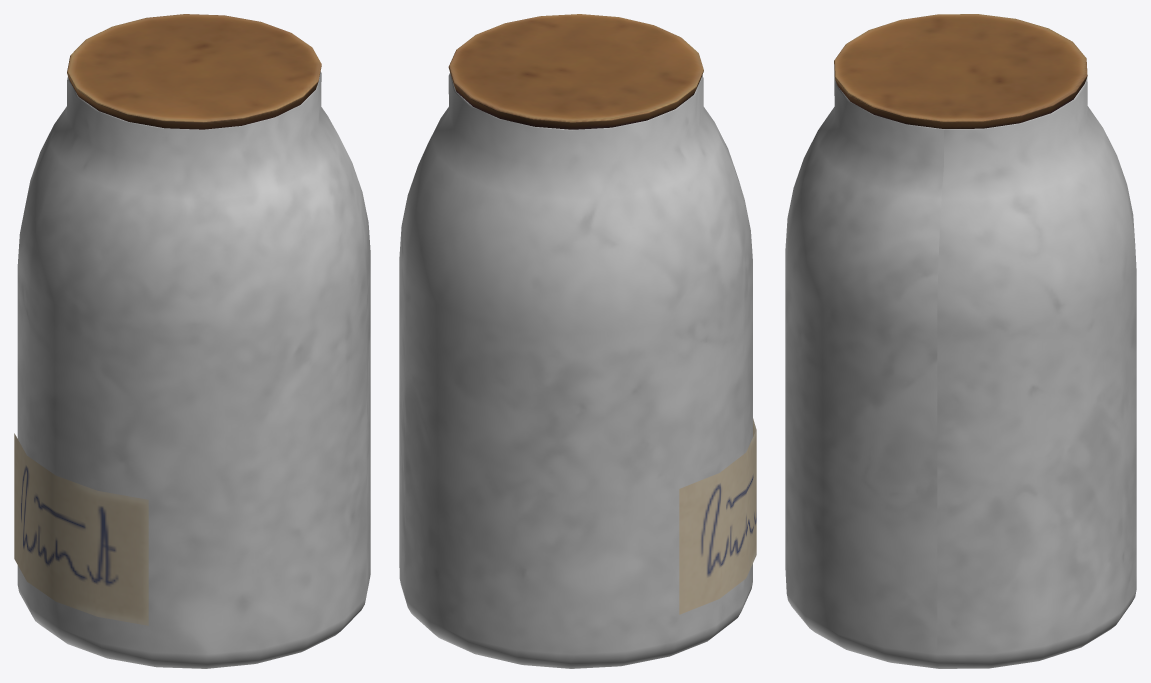
File: SM_FoodPot_04.fbx
3 views of the same model, side by side, from view 1: azimuth 30°, elevation 25°; view 2: azimuth 150°, elevation 25°; view 3: azimuth 270°, elevation 25° (orthographic).
Visible parts, largest first — view 1: SM_FoodPot_04_LOD0; view 2: SM_FoodPot_04_LOD0; view 3: SM_FoodPot_04_LOD0.
Part boxes in pixels (x1,y1,x2,y2): SM_FoodPot_04_LOD0: (14,14,370,668); SM_FoodPot_04_LOD0: (399,14,756,668); SM_FoodPot_04_LOD0: (785,14,1136,668).
Bounding box in the file's own units: 10.54 × 10.42 × 17.58.
2 materials, 2 textured.
